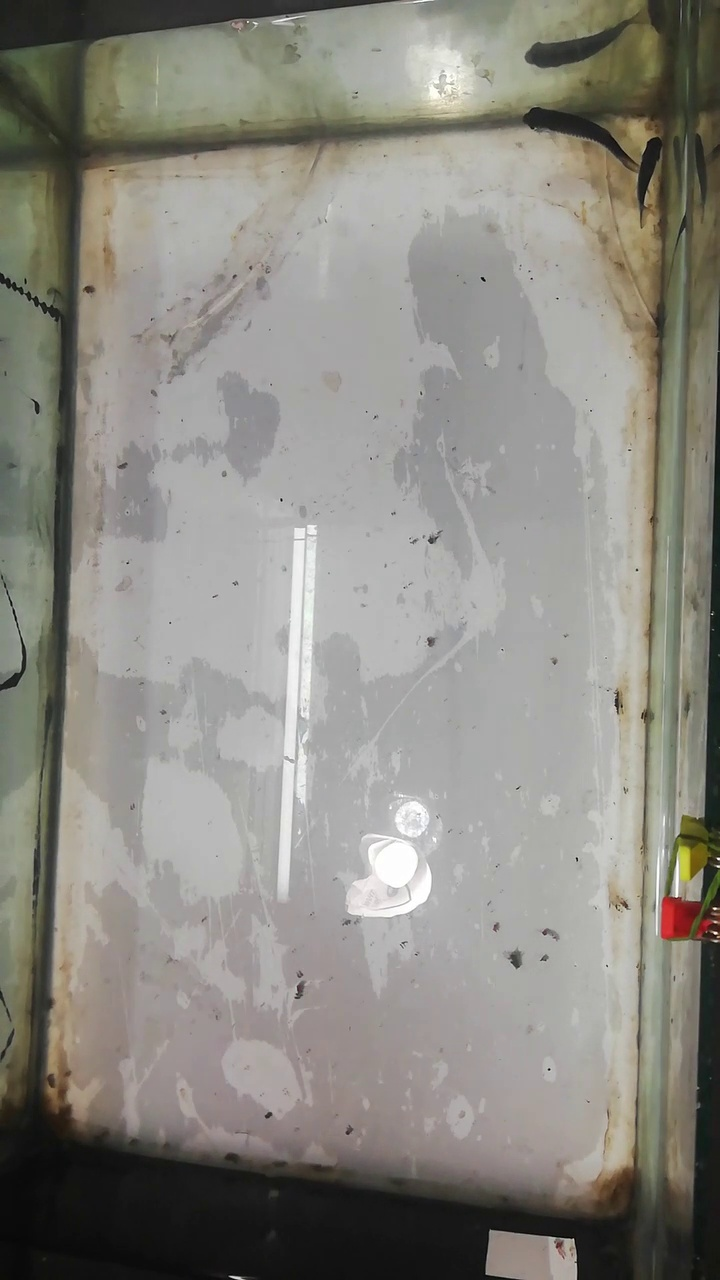fish1: (521, 108, 627, 167)
fish2: (637, 135, 663, 219)
